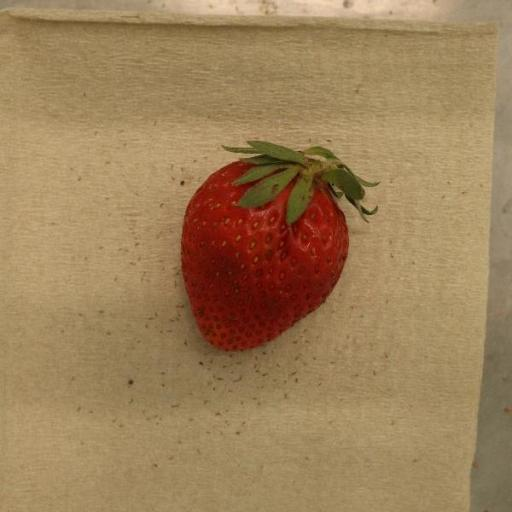Strawberry: (180, 143, 377, 352)
